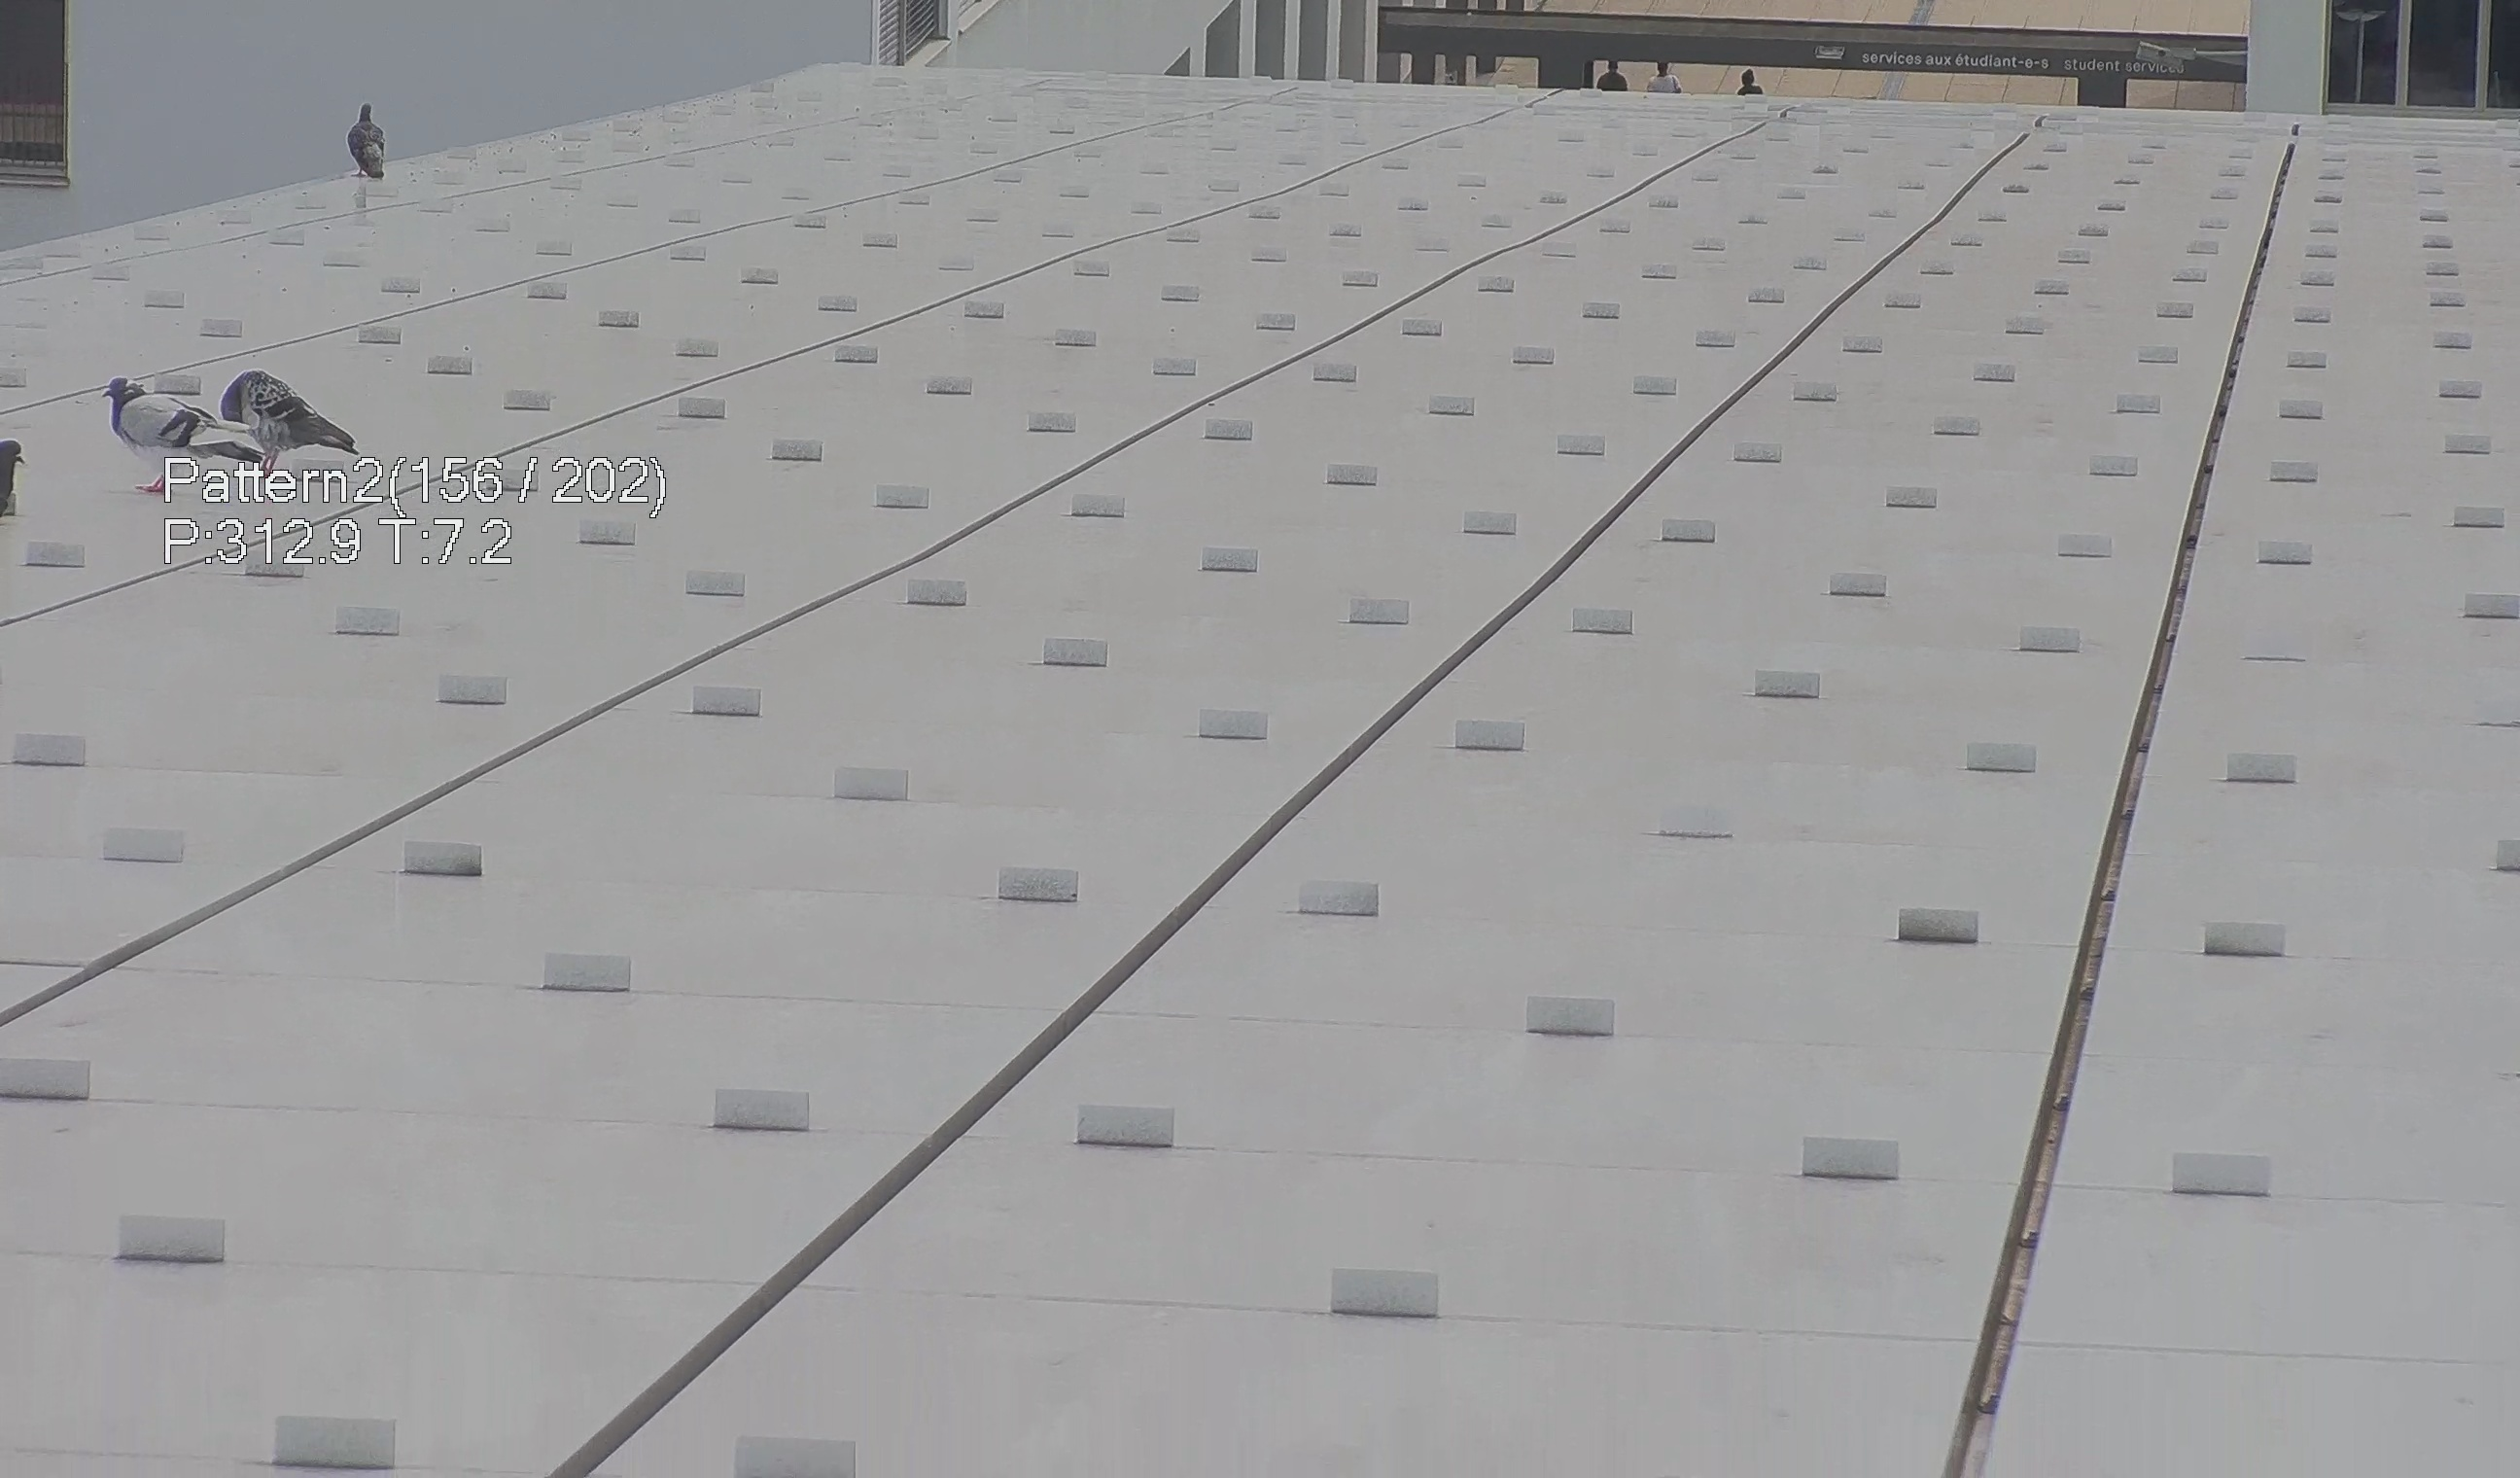Pigeon: (83, 373, 266, 509), (200, 357, 376, 482), (343, 100, 397, 192), (2, 433, 32, 512)
